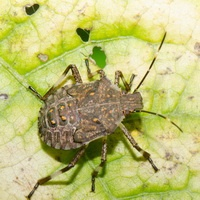insect: (27, 56, 157, 198), (105, 39, 146, 70)
